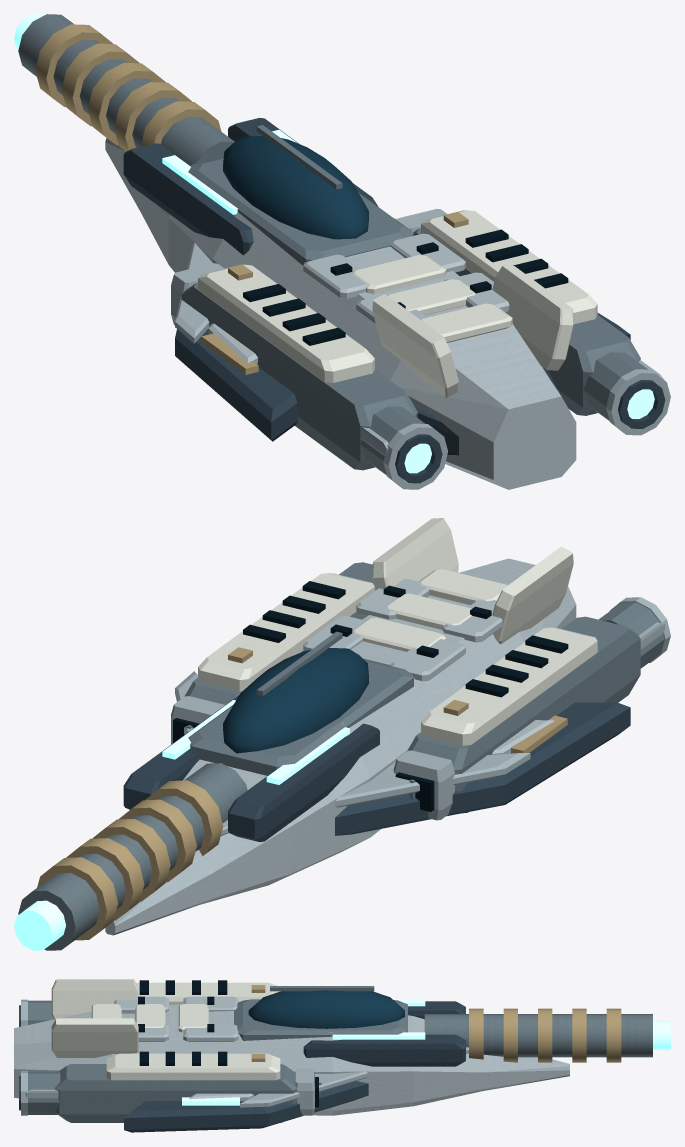
File: laser.glb
3 renders of one model, top to bottom at view 1: azimuth 30°, elevation 25°; view 2: azimuth 150°, elevation 25°; view 3: azimuth 270°, elevation 25°, orthographic. The views are drawn at different scales.
Visible parts, largest first — view 1: _MeshInstance3D_148; view 2: _MeshInstance3D_148; view 3: _MeshInstance3D_148.
Part boxes in pixels (bbox=[...]): _MeshInstance3D_148: bbox=[14, 14, 670, 489]; _MeshInstance3D_148: bbox=[14, 518, 670, 950]; _MeshInstance3D_148: bbox=[14, 979, 670, 1132].
Size of the model in its own units: 0.15 by 0.0697 by 0.3629.
Materials: 1 (1 with a texture image).
